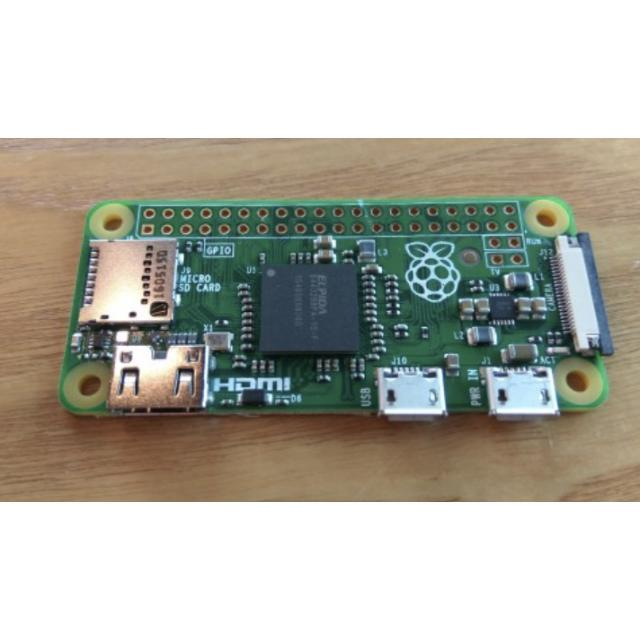Raspberry-Pi-Zero: (60, 197, 615, 418)
